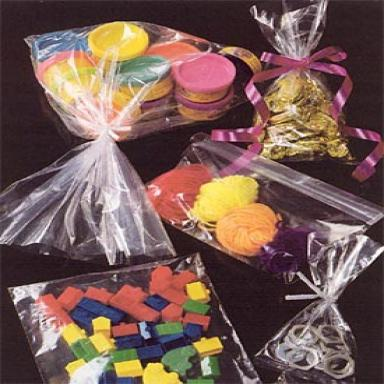plasticbag: (6, 2, 381, 383)
